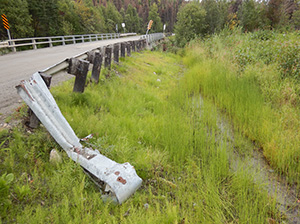damaged: (12, 68, 144, 205)
